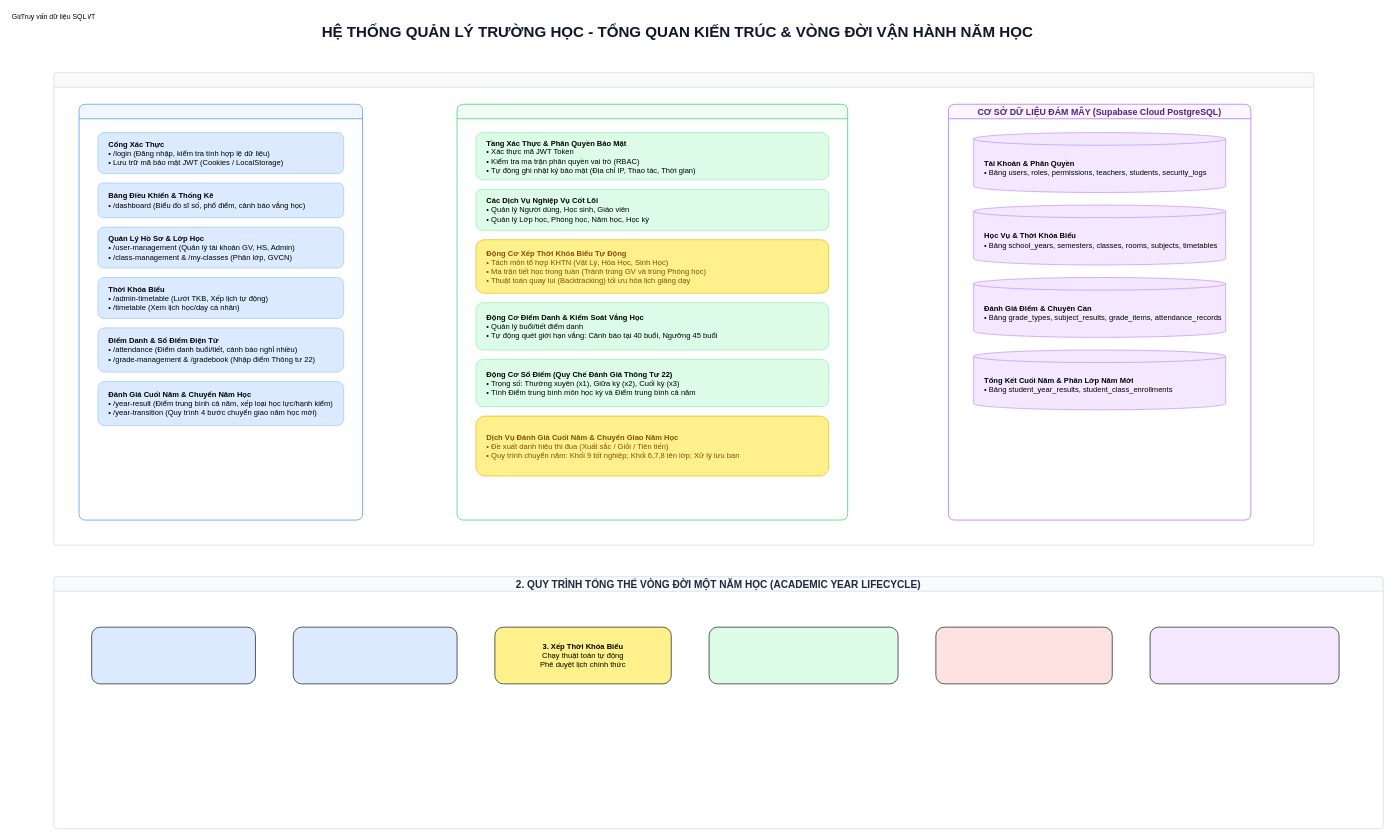
Image size: 1394x840. Some labels were removed from this diagram. Each missing label, with the box of its shape:
1. Khởi Tạo Năm Học Tạo Năm học, Học kỳ, Khai báo Phòng & Lớp: (91, 627, 255, 684)
1. SƠ ĐỒ KIẾN TRÚC PHÂN TẦNG HỆ THỐNG: (53, 72, 1314, 545)
2. Phân Lớp & Gán GVCN Tiếp nhận học sinh mới Phân công chủ nhiệm: (293, 627, 457, 684)
4. Giảng Dạy & Điểm Danh Điểm danh từng buổi học Nhập điểm thường xuyên: (708, 627, 898, 684)
5. Thi & Đánh Giá Cuối Năm Tính Điểm trung bình cả năm Xét hạnh kiểm & vắng học: (935, 627, 1112, 684)
6. Chuyển Giao Năm Mới Nâng khối lớp học sinh Kích hoạt năm học mới: (1149, 627, 1339, 684)
GIAO DIỆN NGƯỜI DÙNG (Next.js 16 + React 19 + Tailwind CSS v4): (78, 104, 363, 520)
MÁY CHỦ DỊCH VỤ XỬ LÝ (Express.js 4 + TypeScript): (456, 104, 848, 520)
